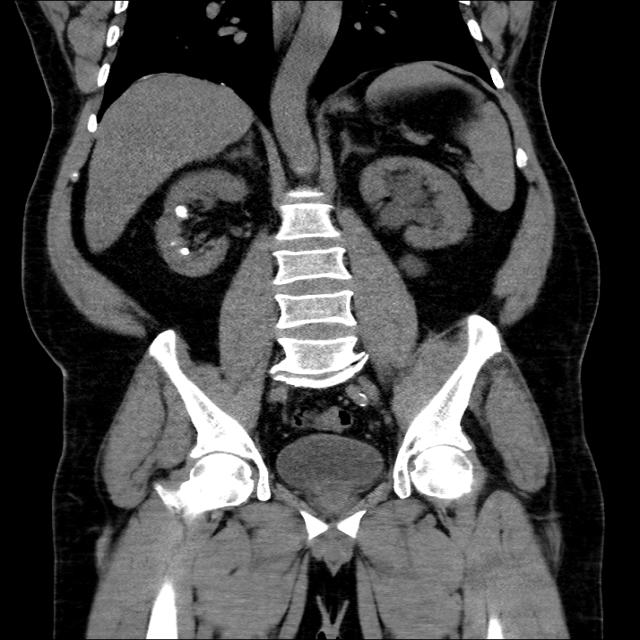kidneystone: (175, 205, 186, 218), (179, 248, 190, 256)
